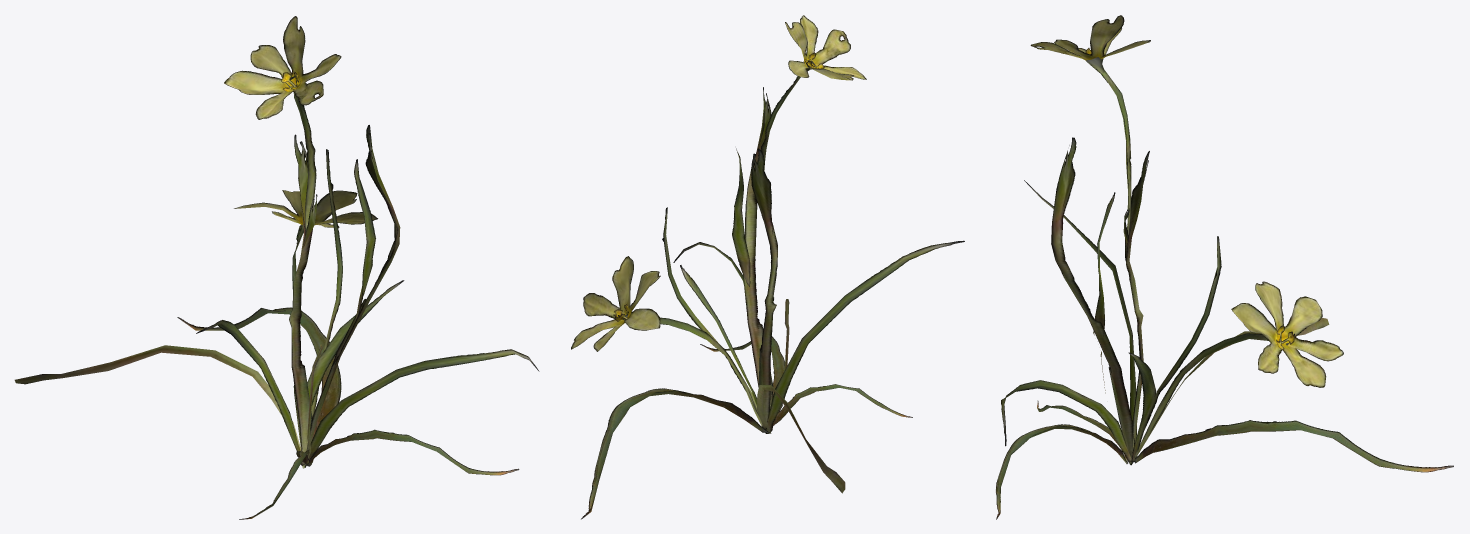
File: flower_empodium.glb
3 renders of one model, left to right at view 1: azimuth 30°, elevation 25°; view 2: azimuth 150°, elevation 25°; view 3: azimuth 270°, elevation 25°, orthographic. The views are drawn at different scales.
Parts seen in each view (by area): view 1: flower_empodium_a_LOD0; view 2: flower_empodium_a_LOD0; view 3: flower_empodium_a_LOD0.
Boxes of the visible parts, x1=… form: flower_empodium_a_LOD0: x1=14, y1=16, x2=539, y2=519; flower_empodium_a_LOD0: x1=571, y1=15, x2=964, y2=519; flower_empodium_a_LOD0: x1=996, y1=15, x2=1453, y2=519.
Size of the model in its own units: 0.2174 by 0.2671 by 0.2508.
1 material, 1 textured.
